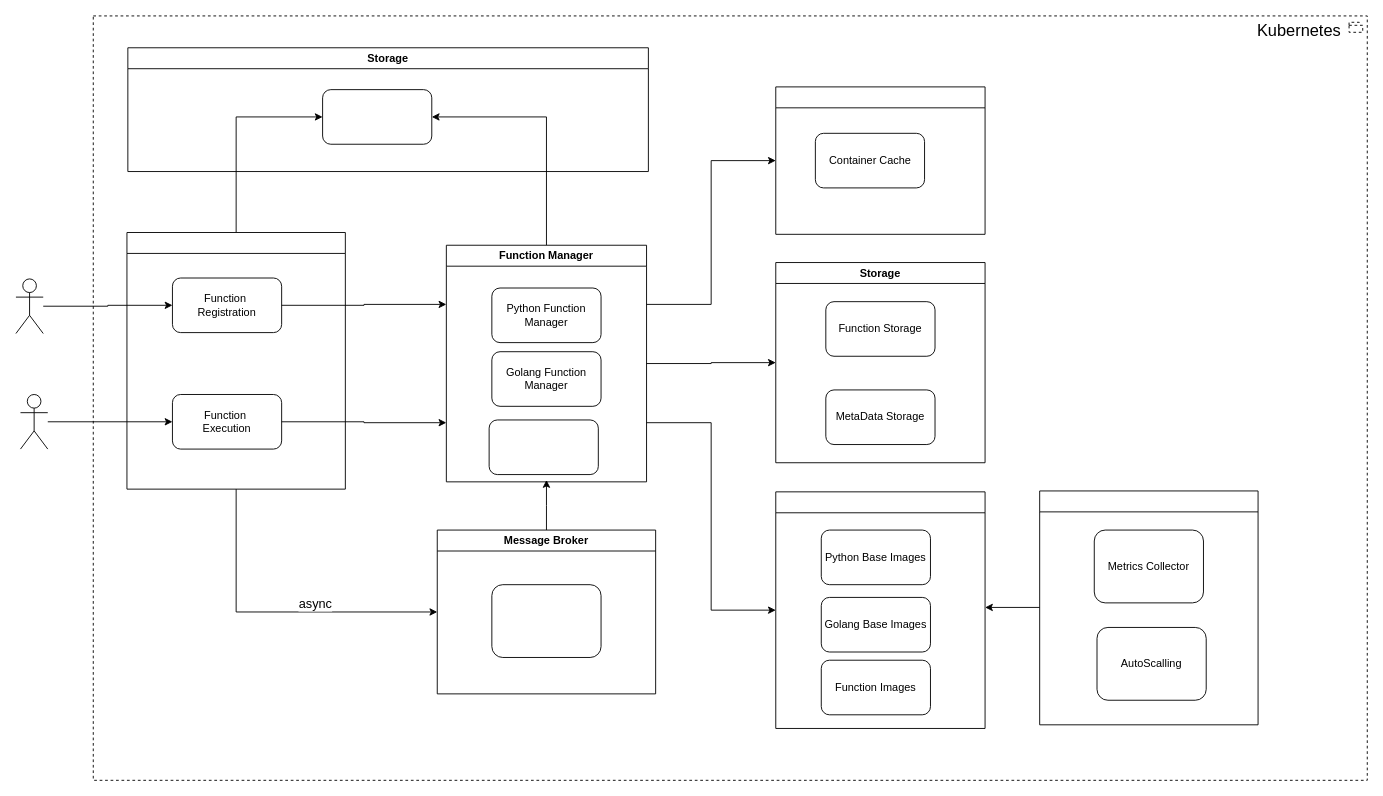
Image size: 1383x796. Some labels were removed from this diagram. The box of each missing label's shape, as (x1, y1, x2, y2) in pixels:
API Gateway: (126, 232, 345, 489)
Cleanup Service: (488, 419, 598, 475)
Distributed Cache: (775, 86, 985, 234)
Function Container: (775, 491, 985, 728)
Logs Manager: (322, 89, 432, 144)
Monitoting: (1039, 490, 1258, 725)
Task Queues: (491, 584, 601, 657)
